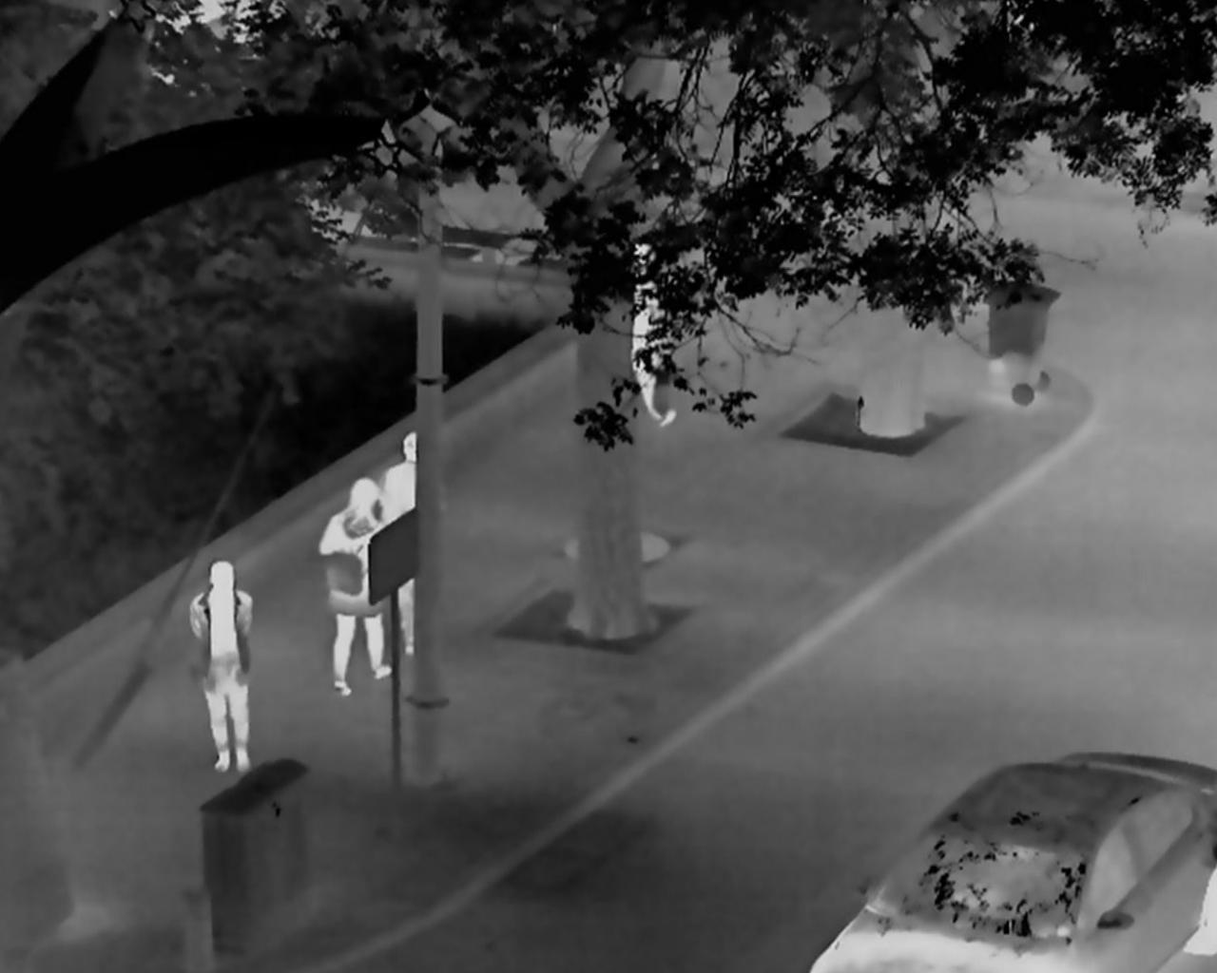person: (319, 475, 393, 696), (188, 559, 256, 775), (630, 237, 680, 428), (378, 430, 415, 658)
